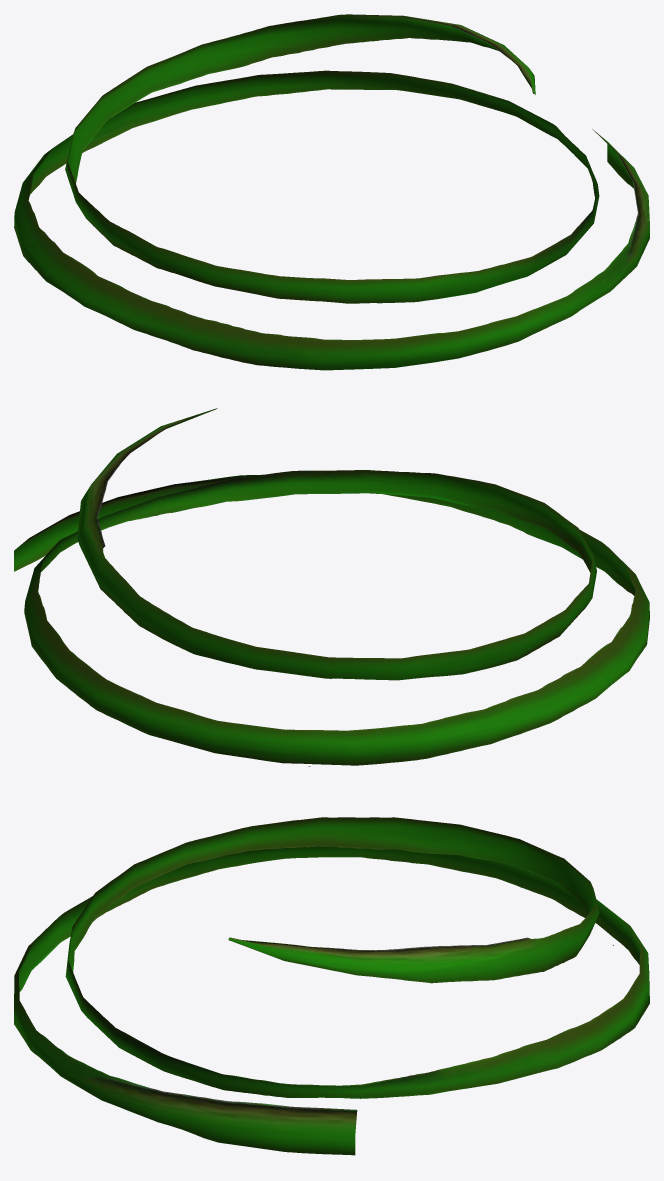
The model's file is chanrao_2.FBX.
3 renders of one model, top to bottom at view 1: azimuth 30°, elevation 25°; view 2: azimuth 150°, elevation 25°; view 3: azimuth 270°, elevation 25°, orthographic. The views are drawn at different scales.
Parts seen in each view (by area): view 1: Plane003; view 2: Plane003; view 3: Plane003.
Part boxes in pixels (x1,y1,x2,y2): Plane003: [14, 14, 649, 370]; Plane003: [14, 408, 649, 766]; Plane003: [14, 817, 649, 1155].
Size of the model in its own units: 14.3 by 4.06 by 13.62.
